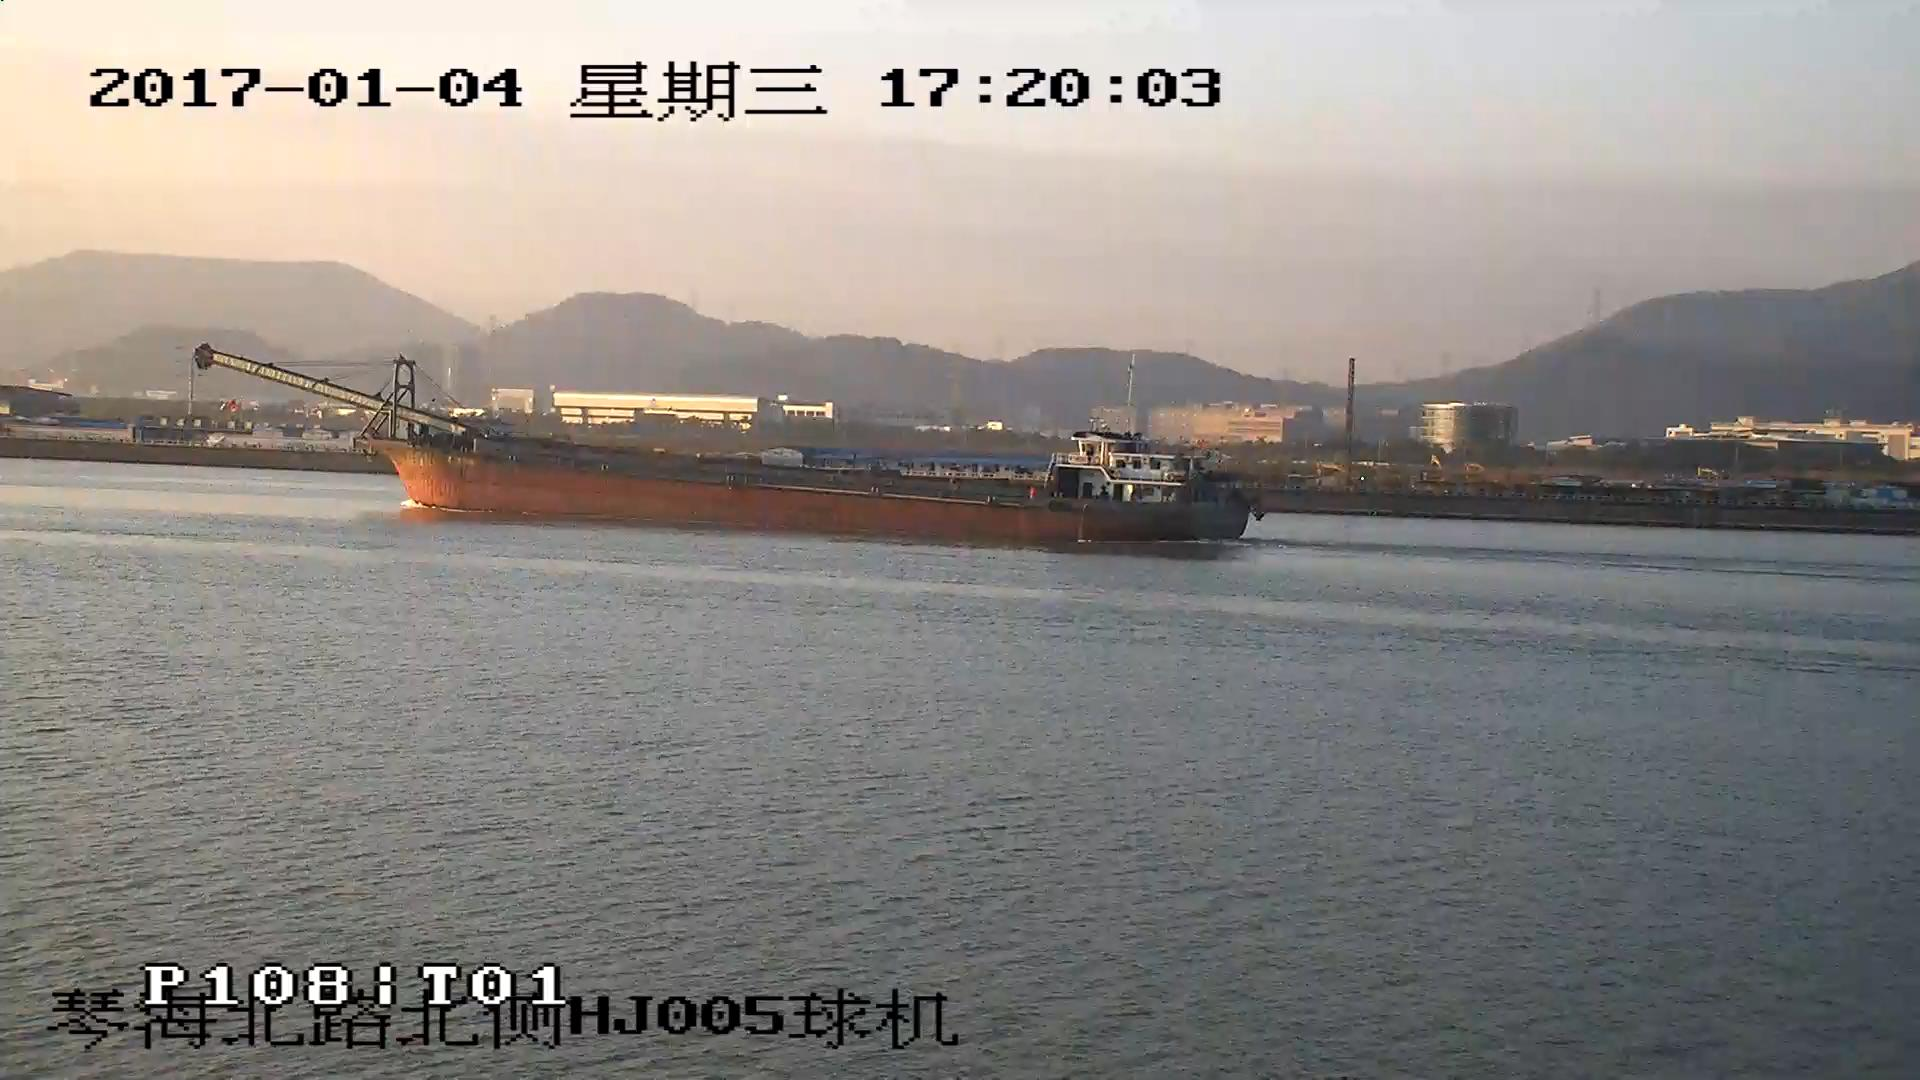bulk cargo carrier: (199, 347, 1254, 542)
